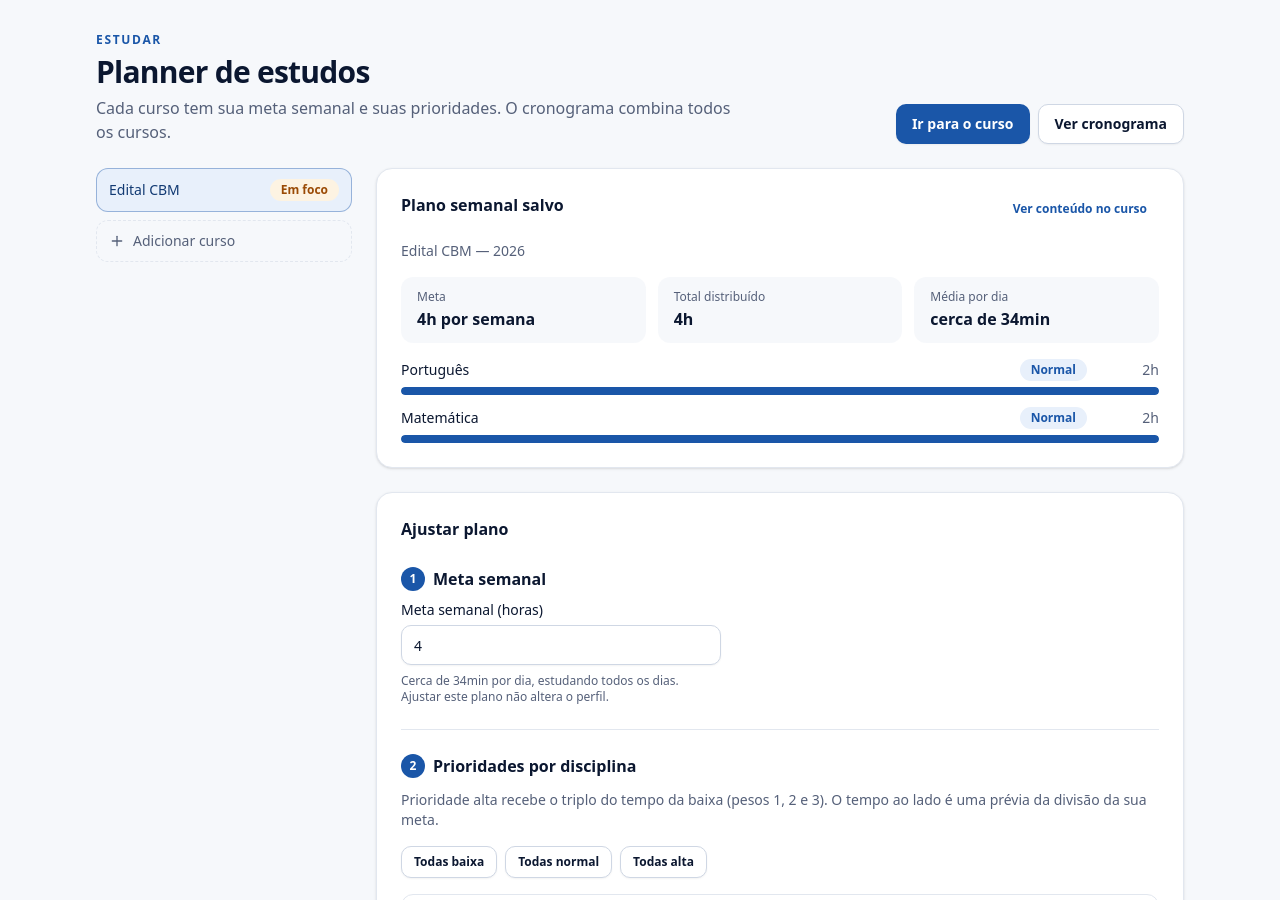
Scenario: TelaPlanner › aplica uma prioridade a todas as disciplinas
The width and height of the screenshot is (1280, 900).
Expected: the number field labelled "Meta semanal (horas)" is shown, [401,625,721,665]
Click the button "Todas alta": (664, 862) [620,846,707,878]
(page scrolled)
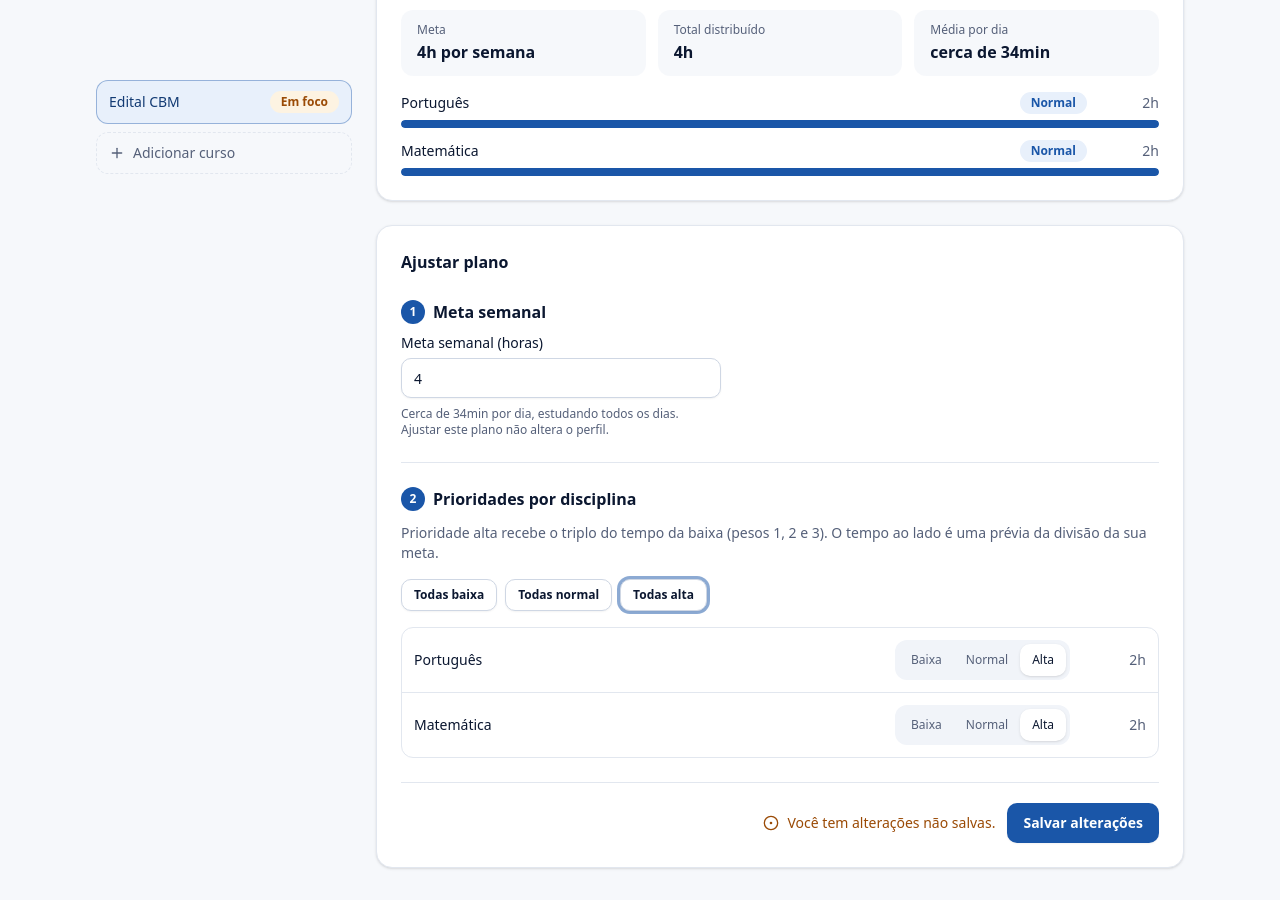
Expected: the 1st radio button labelled "Alta" is checked, [1020,644,1066,676]
